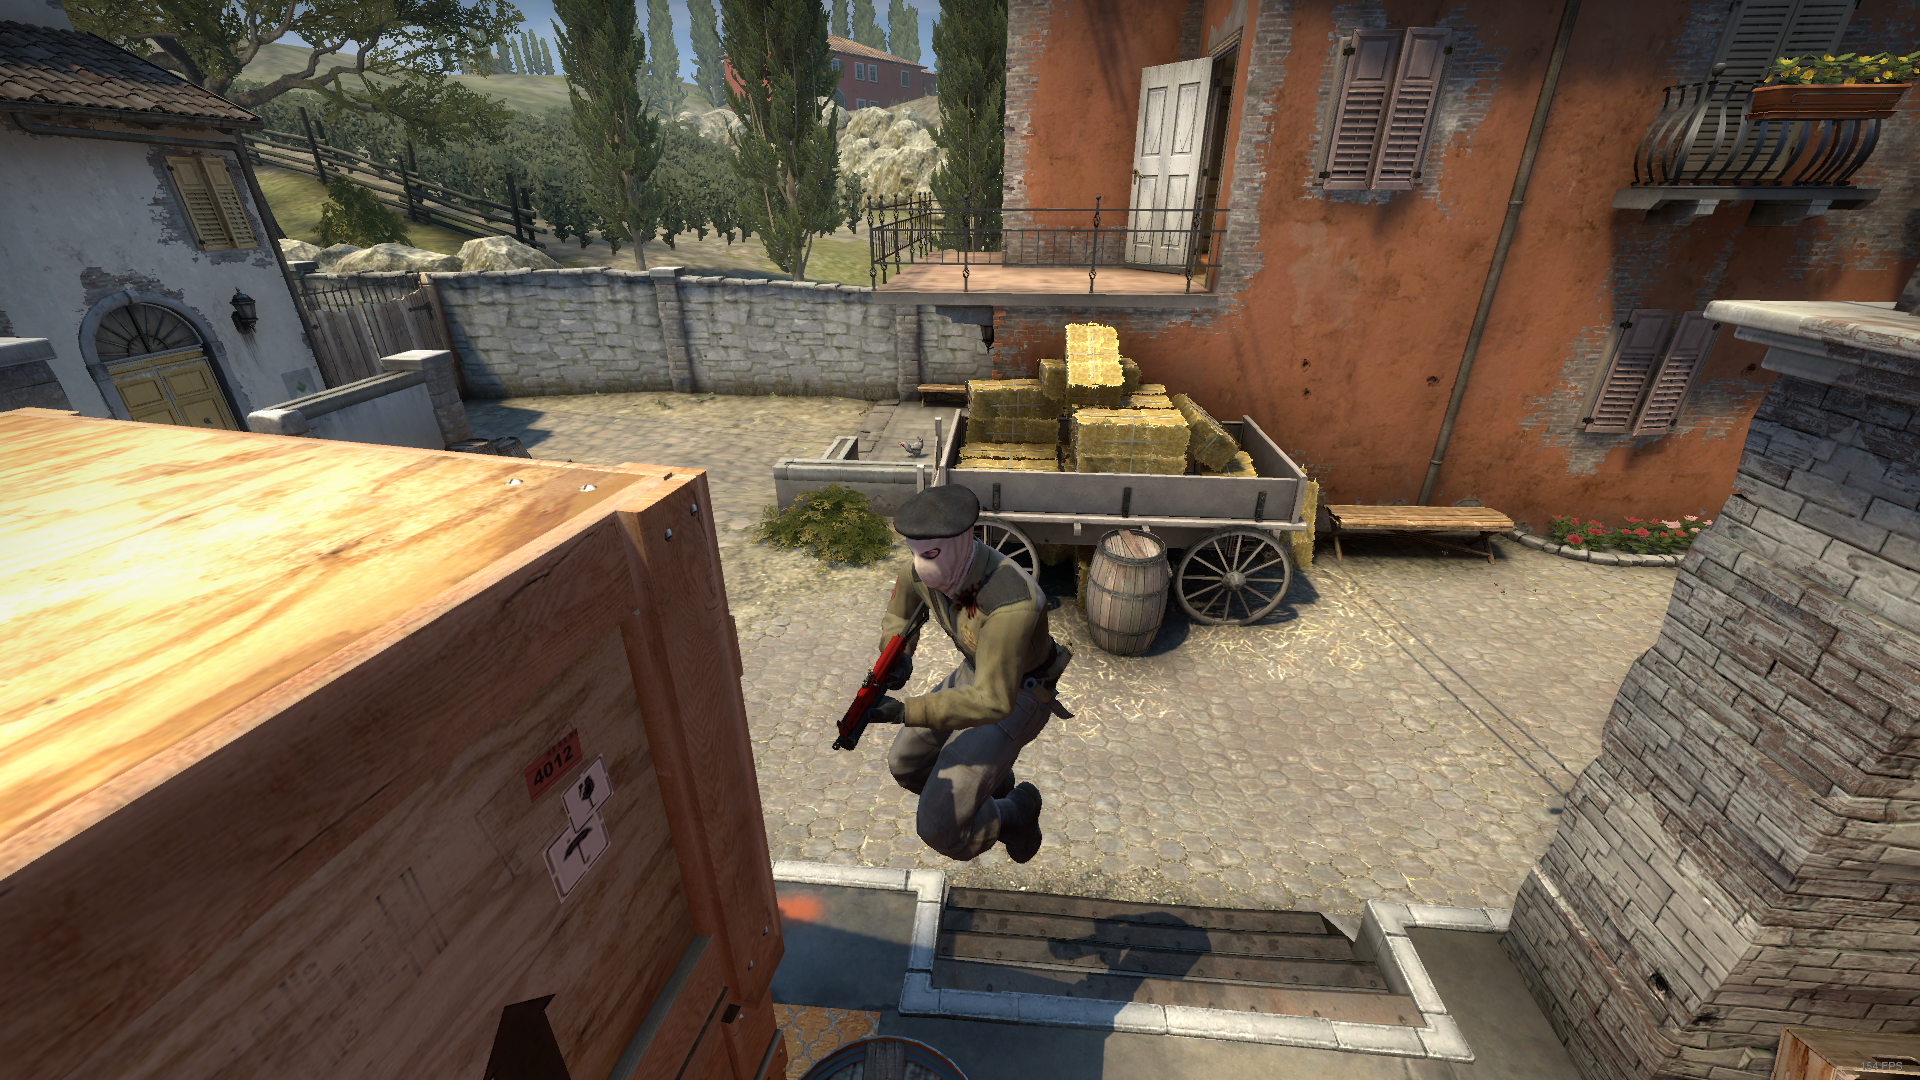t: (862, 483, 1059, 864)
